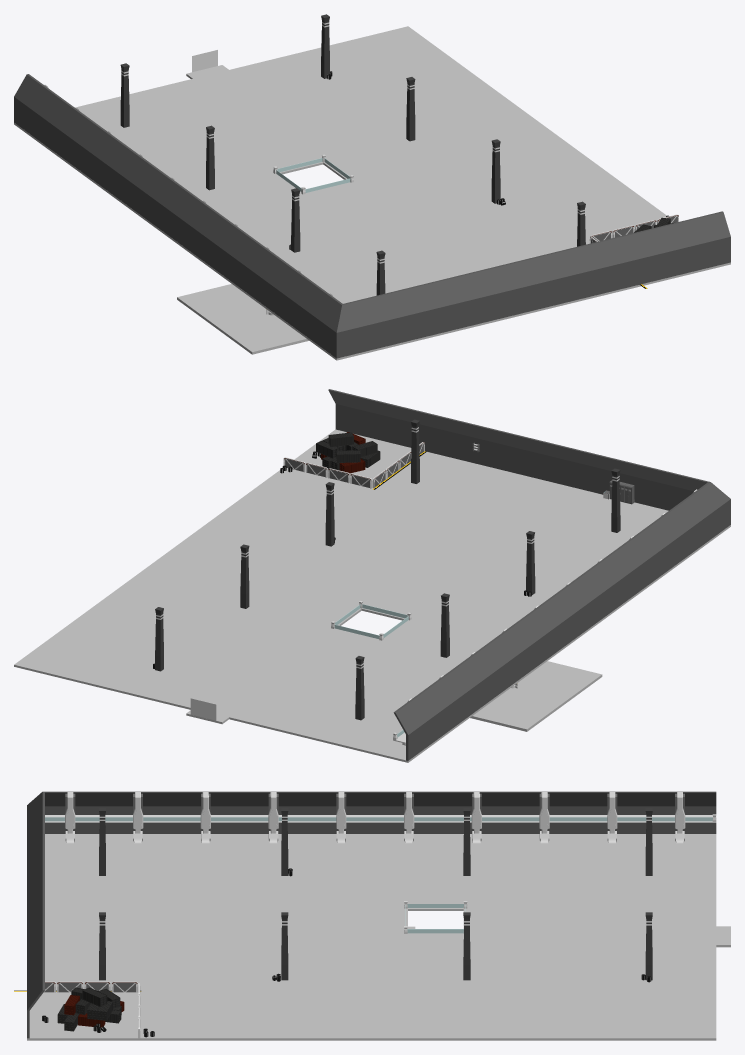
File: Arena.fbx
3 renders of one model, top to bottom at view 1: azimuth 30°, elevation 25°; view 2: azimuth 150°, elevation 25°; view 3: azimuth 270°, elevation 25°, orthographic. The views are drawn at different scales.
Visible parts, largest first — view 1: Cube, Pareti.003, Plane.002, colonne, Barriere; view 2: Cube, Pareti.003, colonne, Plane.002, Barriere; view 3: Cube, Pareti.003, Colonne, colonne, Pavimento Piano 1, Ringhiera Piano 1, Barriere.001.
Part boxes in pixels (<box>): Cube: <box>14,26,730,360</box>; Pareti.003: <box>14,74,730,358</box>; Plane.002: <box>177,284,309,354</box>; colonne: <box>120,14,585,295</box>; Barriere: <box>590,214,678,241</box>; Cube: <box>14,429,730,762</box>; Pareti.003: <box>328,389,730,760</box>; colonne: <box>155,419,620,720</box>; Plane.002: <box>470,661,602,731</box>; Barriere: <box>283,457,372,488</box>; Cube: <box>27,834,730,1040</box>; Pareti.003: <box>27,791,716,1038</box>; Colonne: <box>65,792,685,843</box>; colonne: <box>99,808,652,980</box>; Pavimento Piano 1: <box>45,815,716,822</box>; Ringhiera Piano 1: <box>45,817,712,821</box>; Barriere.001: <box>44,981,137,992</box>.
Bounding box in the file's own units: 9852 × 3350 × 14518.
